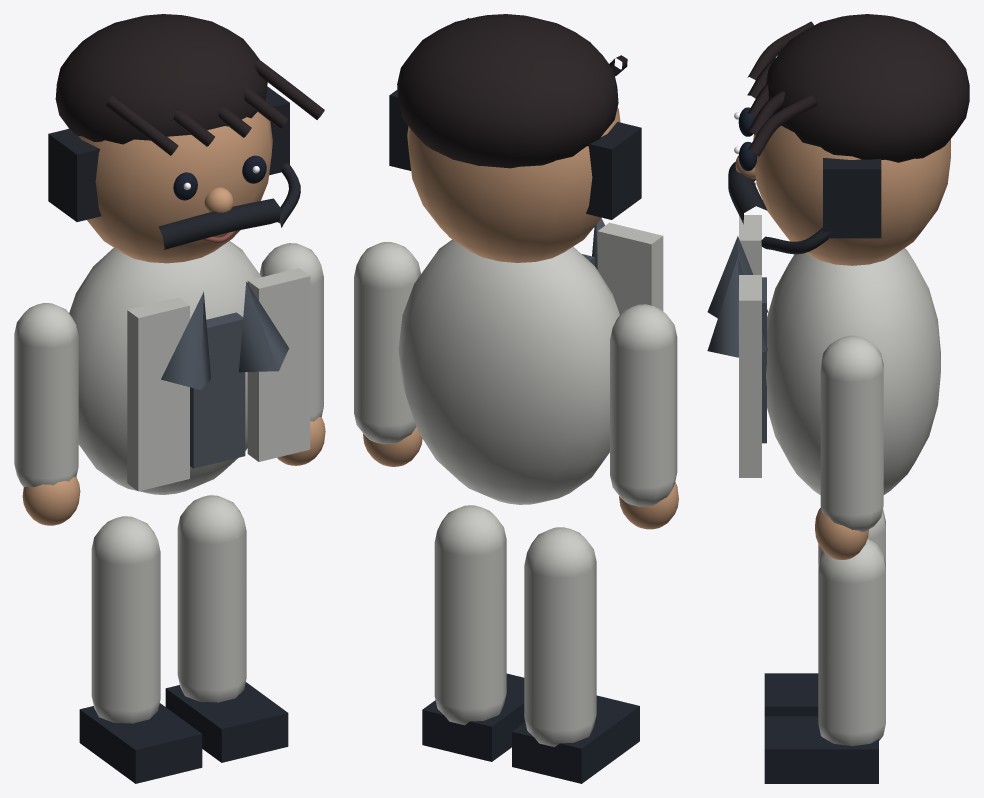
File: profile-ted.glb
The picture shows the model from 3 angles, left to right: view 1: azimuth 30°, elevation 25°; view 2: azimuth 150°, elevation 25°; view 3: azimuth 270°, elevation 25°; orthographic projection. The views are drawn at different scales.
Visible parts, largest first — view 1: jacket-panel (×2), hair-crown, tailored-torso, face, right-leg-mesh, left-leg-mesh, left-sleeve, shirt-panel, left-shoe, right-shoe, lapel (×2), headset-ear (×2) (+10 smaller); view 2: tailored-torso, hair-crown, face, right-leg-mesh, left-leg-mesh, left-sleeve, right-sleeve, left-shoe, headset-ear (×2), jacket-panel, right-shoe, left-hand-mesh (+1 smaller); view 3: tailored-torso, hair-crown, face, right-leg-mesh, right-sleeve, right-shoe, jacket-panel (×2), headset-ear, lapel (×2), left-shoe, right-hand-mesh, mustache (+6 smaller).
Part boxes in pixels (x1=…): jacket-panel (×2): x1=127, y1=268, x2=310, y2=491; hair-crown: x1=55, y1=14, x2=267, y2=144; tailored-torso: x1=69, y1=241, x2=261, y2=494; face: x1=68, y1=112, x2=272, y2=263; right-leg-mesh: x1=177, y1=495, x2=246, y2=702; left-leg-mesh: x1=91, y1=516, x2=160, y2=723; left-sleeve: x1=14, y1=303, x2=78, y2=486; shirt-panel: x1=190, y1=312, x2=245, y2=468; left-shoe: x1=79, y1=703, x2=202, y2=783; right-shoe: x1=165, y1=682, x2=288, y2=762; lapel (×2): x1=161, y1=282, x2=288, y2=389; headset-ear (×2): x1=48, y1=86, x2=289, y2=221; tailored-torso: x1=398, y1=239, x2=619, y2=504; hair-crown: x1=397, y1=14, x2=618, y2=168; face: x1=407, y1=107, x2=620, y2=262; right-leg-mesh: x1=434, y1=505, x2=506, y2=725; left-leg-mesh: x1=524, y1=527, x2=596, y2=746; left-sleeve: x1=610, y1=304, x2=677, y2=506; right-sleeve: x1=354, y1=242, x2=420, y2=444; left-shoe: x1=512, y1=695, x2=639, y2=783; headset-ear (×2): x1=389, y1=89, x2=641, y2=219; jacket-panel: x1=597, y1=222, x2=663, y2=314; right-shoe: x1=422, y1=673, x2=525, y2=761; left-hand-mesh: x1=619, y1=482, x2=678, y2=529; tailored-torso: x1=766, y1=248, x2=940, y2=494; hair-crown: x1=766, y1=14, x2=969, y2=162; face: x1=753, y1=125, x2=950, y2=265; right-leg-mesh: x1=818, y1=539, x2=885, y2=746; right-sleeve: x1=820, y1=335, x2=883, y2=531; right-shoe: x1=764, y1=716, x2=878, y2=783; jacket-panel (×2): x1=739, y1=215, x2=761, y2=477; headset-ear: x1=823, y1=158, x2=881, y2=238; lapel (×2): x1=707, y1=236, x2=767, y2=357; left-shoe: x1=764, y1=673, x2=818, y2=716; right-hand-mesh: x1=815, y1=507, x2=868, y2=559; mustache: x1=728, y1=161, x2=767, y2=224.
Size of the model in its own units: 1.4 by 3.11 by 1.03.
